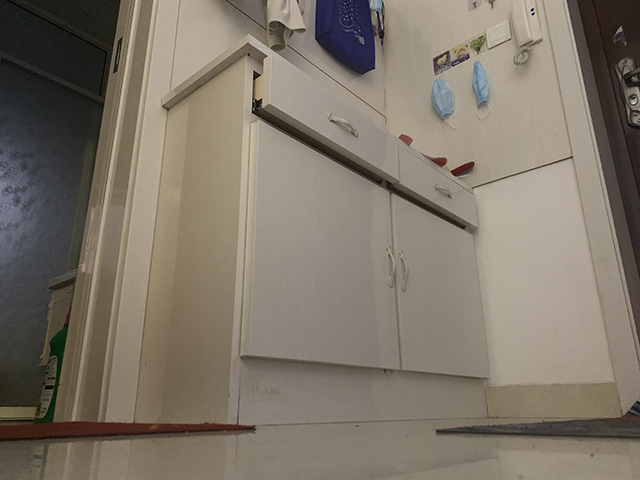cabinet: (132, 33, 491, 426)
carpet: (436, 399, 640, 440), (1, 419, 258, 443)
